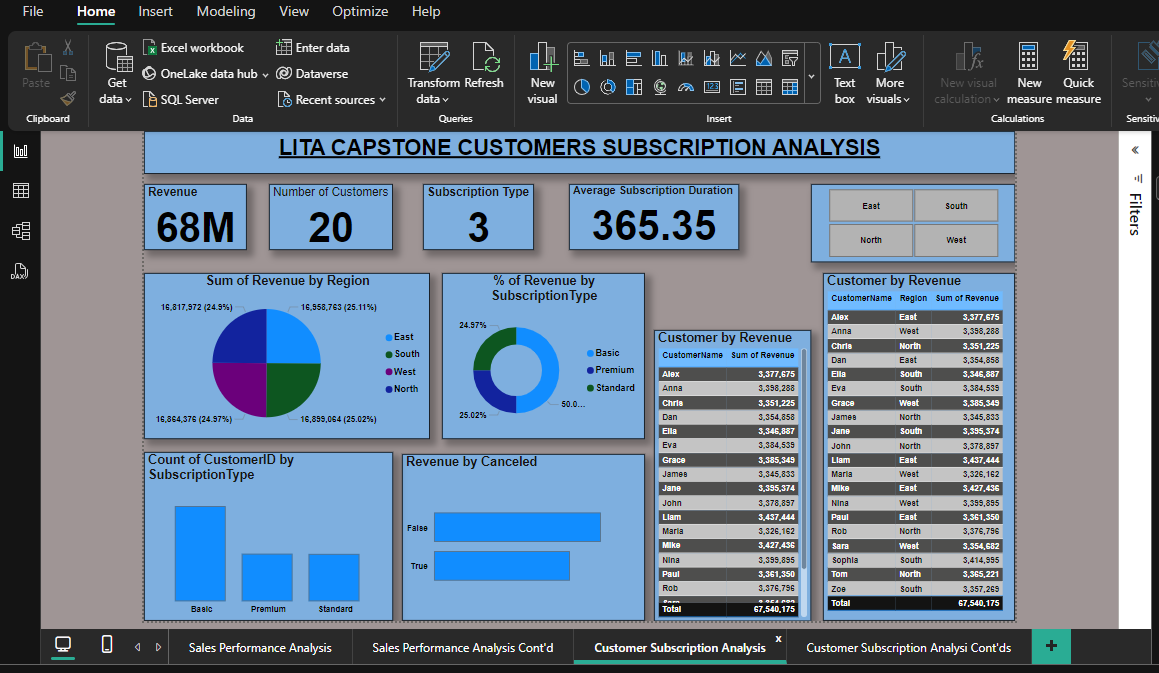

The dashboard page shown, as its layout file describes it:
{"tool":"powerbi","page":{"name":"Customer Subscription Analysis","canvas":[1280,720],"ordinal":2},"visuals":[{"type":"textbox","box":[0,0,1279.8,63.2],"z":0},{"type":"card","title":"Number of Customers","fields":{"Values":["Customer Data.CustomerName"]},"box":[183.7,77.9,182.2,97],"z":1000},{"type":"tableEx","title":"Customer by Revenue","fields":{"Values":["Customer Data.CustomerName","Customer Data.Revenue"]},"box":[749.4,292.4,230.7,427.6],"z":2000},{"type":"clusteredBarChart","title":"Revenue by Canceled","fields":{"Category":["Customer Data.Canceled"],"Y":["Customer Data.Revenue","Customer Data.Revenue"]},"box":[379.1,474.6,357.1,245.4],"z":3000},{"type":"card","title":"Average Subscription Duration","fields":{"Values":["Customer Data.Subscription Duration"]},"box":[624.5,77.9,249.8,97],"z":4000},{"type":"columnChart","fields":{"Category":["Customer Data.SubscriptionType"],"Y":["Customer Data.CustomerID"]},"box":[0,471.7,365.9,248.3],"z":5000},{"type":"pieChart","fields":{"Category":["Customer Data.Region"],"Y":["Customer Data.Revenue"]},"box":[0,208.7,420.2,243.9],"z":6000},{"type":"tableEx","title":"Customer by Revenue","fields":{"Values":["Customer Data.CustomerName","Customer Data.Region","Customer Data.Revenue"]},"box":[997.7,208.7,282.1,511.3],"z":7000},{"type":"donutChart","title":"% of Revenue by SubscriptionType","fields":{"Category":["Customer Data.SubscriptionType"],"Y":["Customer Data.Revenue"]},"box":[437.9,208.7,298.3,243.9],"z":8000},{"type":"card","title":"Subscription Type","fields":{"Values":["Customer Data.SubscriptionType"]},"box":[410,77.9,163.1,97],"z":9000},{"type":"card","title":"Revenue","fields":{"Values":["Customer Data.Revenue"]},"box":[0,77.9,151.3,97],"z":10000},{"type":"slicer","fields":{"Values":["Customer Data.Region"]},"box":[918.4,85.2,361.5,80.8],"z":11000},{"type":"slicer","fields":{"Values":["Customer Data.SubscriptionType"]},"box":[767,192.5,202.8,88.2],"z":12000}]}

Visuals, with their boxes on the page's 1280x720 design canvas (x1, y1, x2, y2). These are canvas units, not pixel positions in the 1159x673 screenshot, which may show the page scaled, cropped or inside an application window:
textbox: x1=0 y1=0 x2=1280 y2=63
"Number of Customers" card: x1=184 y1=78 x2=366 y2=175
"Customer by Revenue" tableEx: x1=749 y1=292 x2=980 y2=720
"Revenue by Canceled" clusteredBarChart: x1=379 y1=475 x2=736 y2=720
"Average Subscription Duration" card: x1=624 y1=78 x2=874 y2=175
columnChart - Customer Data.SubscriptionType x Customer Data.CustomerID: x1=0 y1=472 x2=366 y2=720
pieChart - Customer Data.Region x Customer Data.Revenue: x1=0 y1=209 x2=420 y2=453
"Customer by Revenue" tableEx: x1=998 y1=209 x2=1280 y2=720
"% of Revenue by SubscriptionType" donutChart: x1=438 y1=209 x2=736 y2=453
"Subscription Type" card: x1=410 y1=78 x2=573 y2=175
"Revenue" card: x1=0 y1=78 x2=151 y2=175
slicer - Customer Data.Region: x1=918 y1=85 x2=1280 y2=166
slicer - Customer Data.SubscriptionType: x1=767 y1=192 x2=970 y2=281
